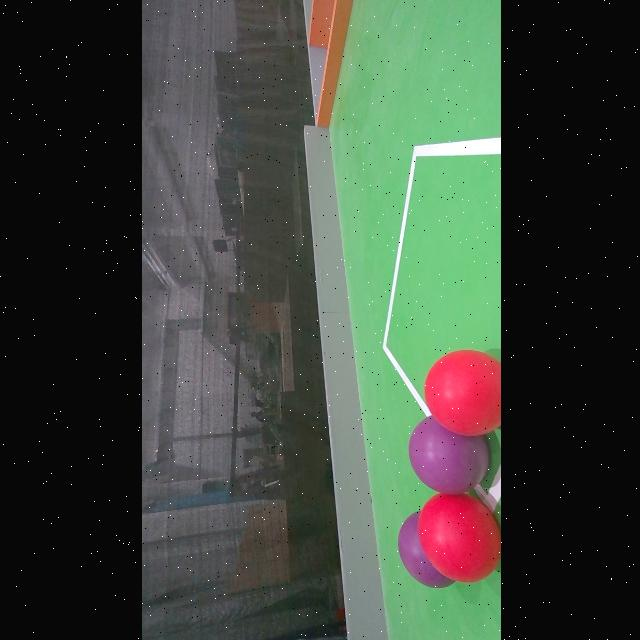P: (407, 410, 498, 490), (402, 509, 462, 589)
R: (416, 493, 500, 583), (424, 350, 500, 436)
